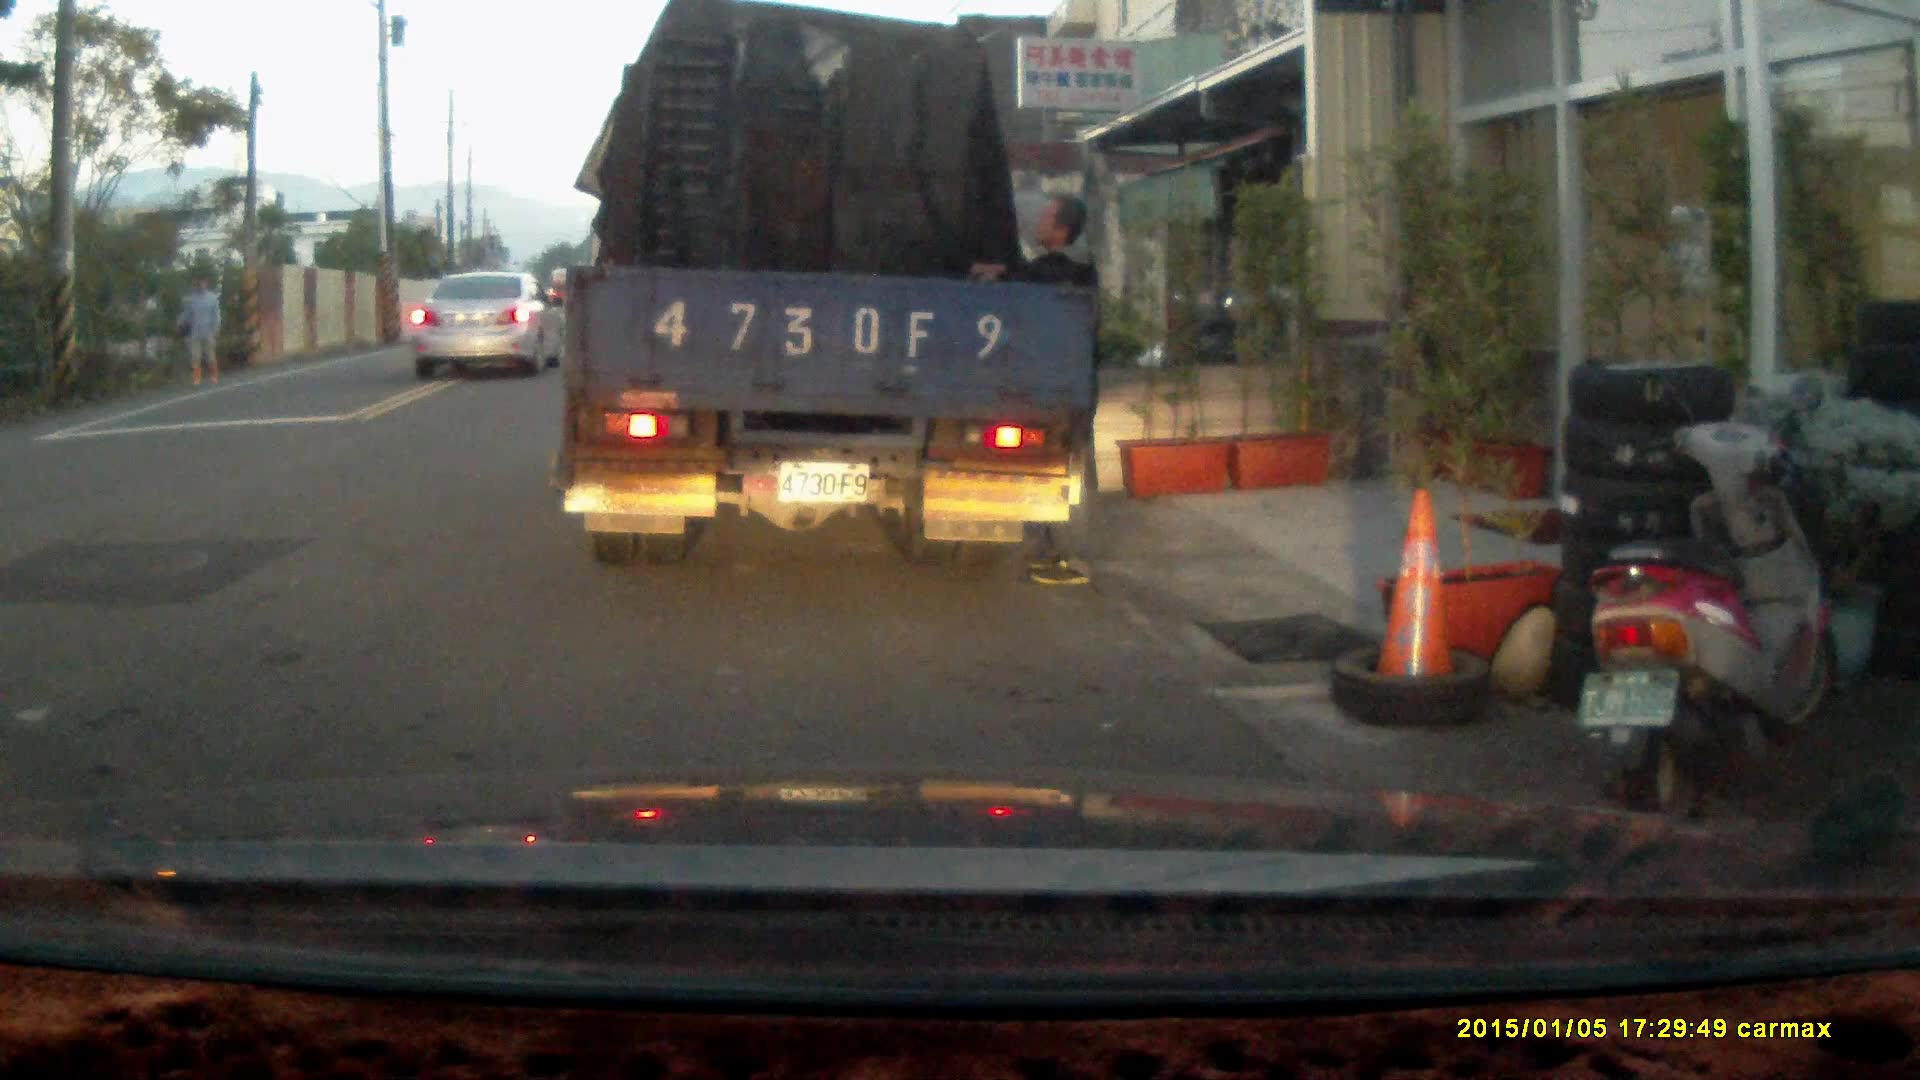pedestrian: (957, 194, 1100, 587), (178, 271, 224, 388)
vehicle: (565, 23, 1097, 572), (409, 268, 573, 381)
